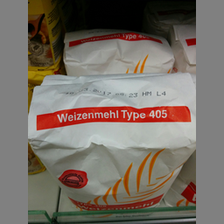flour: (29, 75, 196, 215)
